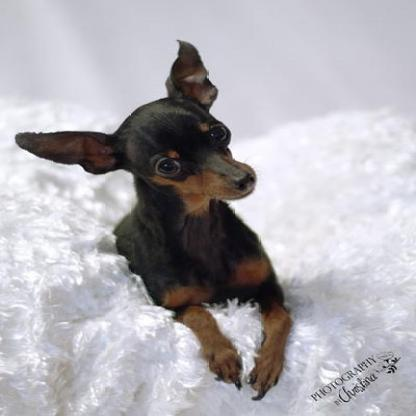miniature_pinscher: (7, 37, 307, 396)
